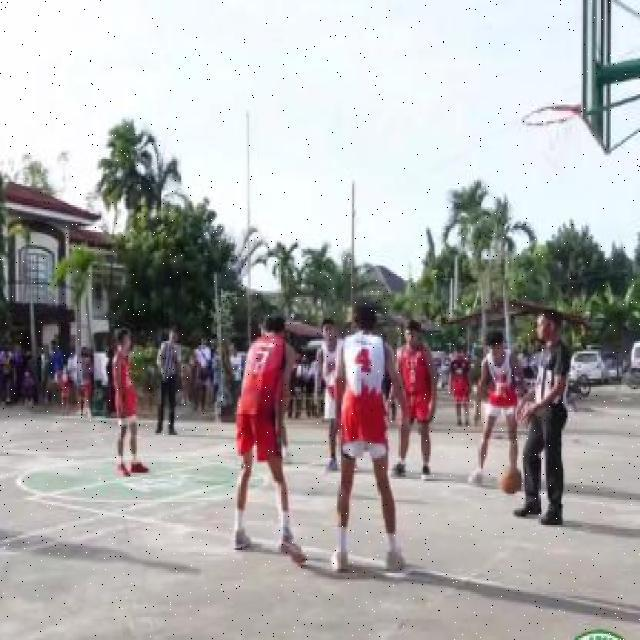ball: (498, 468, 524, 498)
hoop: (509, 104, 587, 125)
